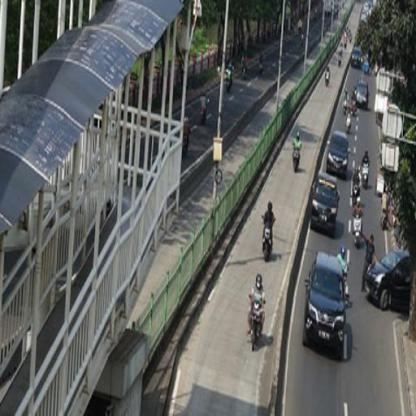car: (304, 250, 348, 358), (370, 245, 416, 315), (310, 173, 342, 235), (323, 126, 351, 177), (352, 80, 372, 108)
motorbike: (246, 296, 271, 349), (260, 222, 280, 260), (350, 210, 366, 250), (288, 144, 304, 170), (360, 161, 370, 188)
